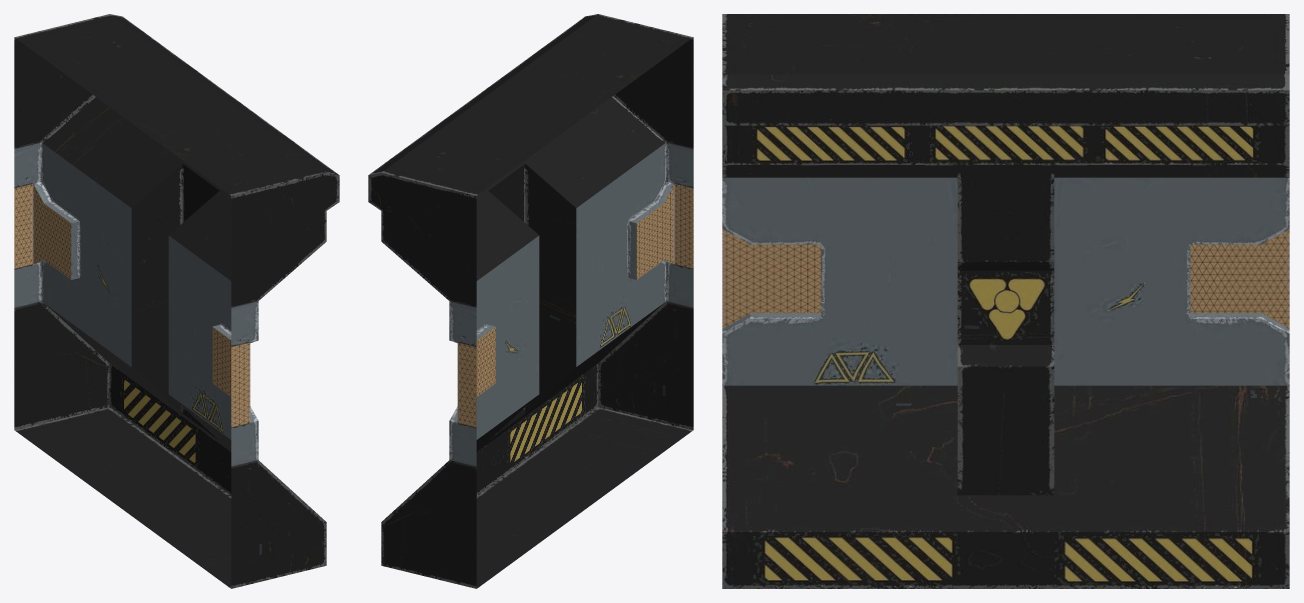
The model's file is lab_terminal.glb.
The picture shows the model from 3 angles, left to right: view 1: azimuth 30°, elevation 25°; view 2: azimuth 150°, elevation 25°; view 3: azimuth 270°, elevation 25°; orthographic projection. The views are drawn at different scales.
Parts seen in each view (by area): view 1: prop; view 2: prop; view 3: prop.
Part boxes in pixels (x1,y1,x2,y2): prop: (14, 14, 339, 588); prop: (368, 14, 693, 588); prop: (722, 14, 1289, 588).
Size of the model in its own units: 0.576 by 2 by 2.
1 material, 1 textured.
